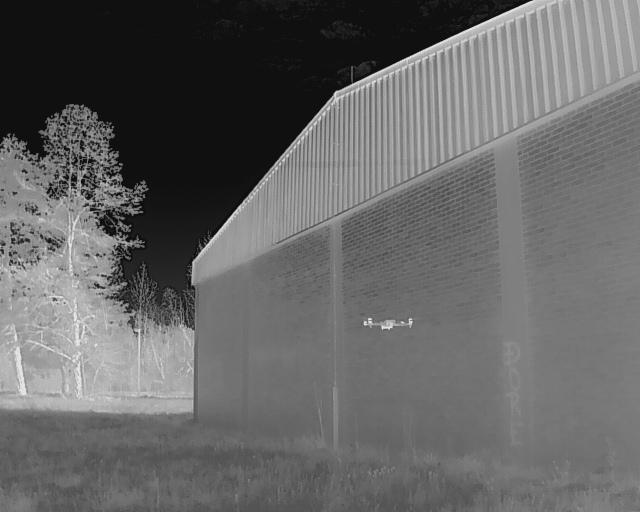drone: (355, 313, 422, 336)
